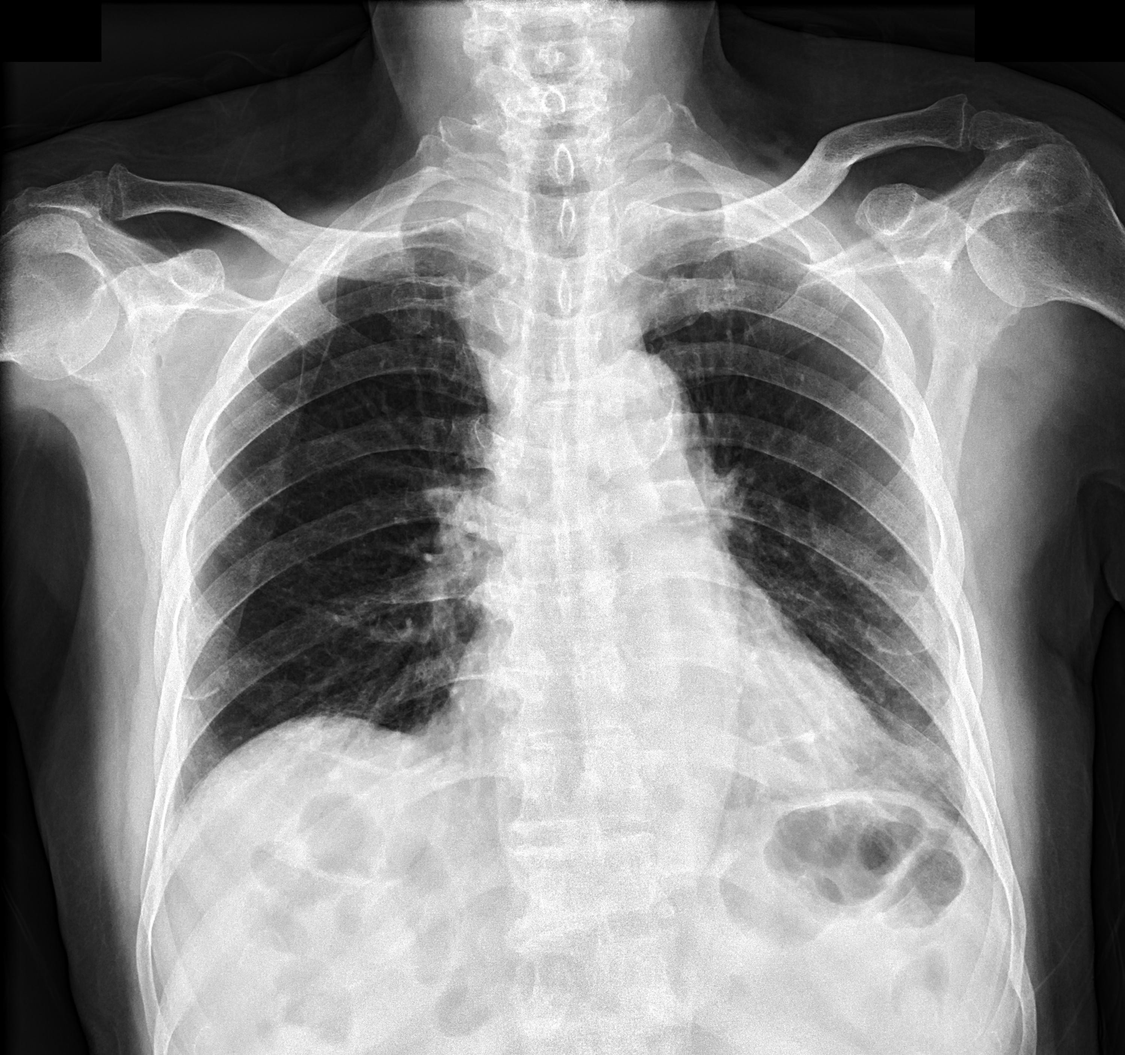Aortic enlargement: (577, 346, 713, 505)
Cardiomegaly: (428, 674, 900, 793)
Pleural thickening: (620, 189, 837, 274), (324, 193, 504, 274)
